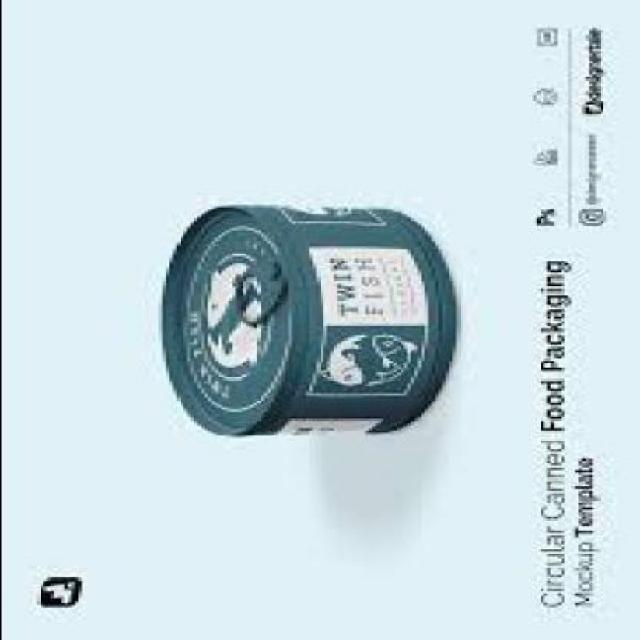METAL: (158, 207, 454, 438)
